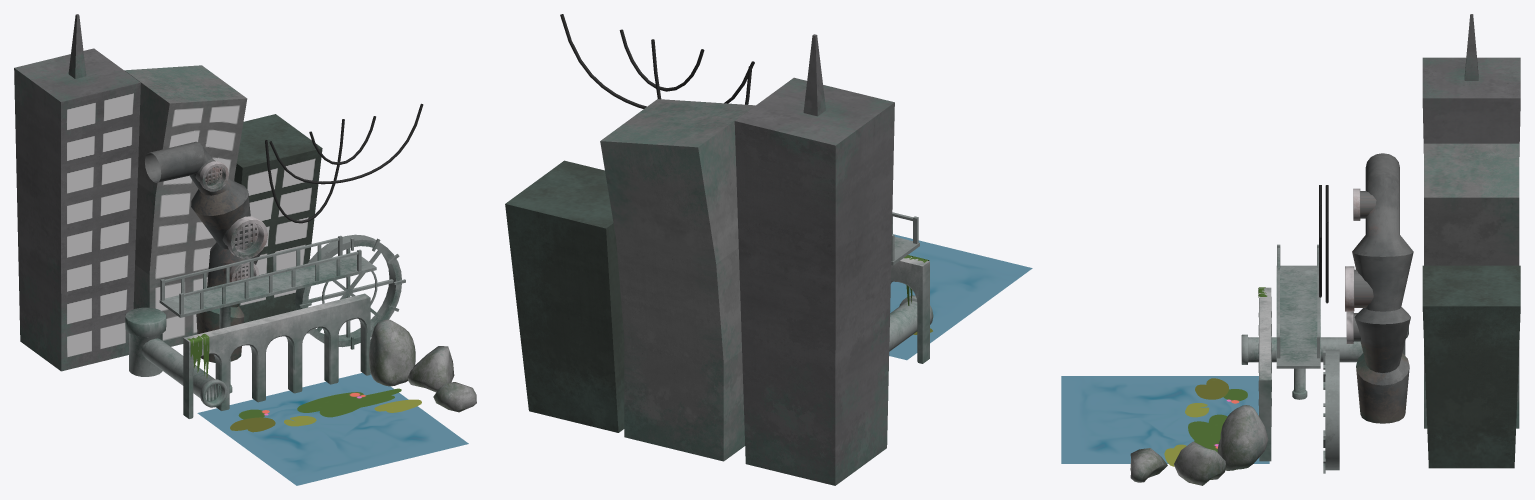
Rendered from Environments 3_1.fbx.
3 views of the same model, side by side, from view 1: azimuth 30°, elevation 25°; view 2: azimuth 150°, elevation 25°; view 3: azimuth 270°, elevation 25° (orthographic). The views are drawn at different scales.
Visible parts, largest first — view 1: Building 1, Building 2, _Floor, Building 3, wall, Water pipe 3, Bridge, Round swing, rock 1, Water pipe 1, Water pipe 2, grass5 (+5 smaller); view 2: Building 1, Building 2, Building 3, _Floor, wall, Water pipe 1, Bridge, wire 3; view 3: Building 3, Water pipe 3, _Floor, Building 2, Building 1, Bridge, rock 1, wall, Round swing, rock 2, Water pipe 1, rock 3 (+2 smaller).
Part boxes in pixels (x1,y1,x2,y2): Building 1: [14, 14, 140, 371]; Building 2: [124, 65, 247, 346]; _Floor: [197, 373, 468, 485]; Building 3: [234, 114, 322, 322]; wall: [183, 293, 370, 418]; Water pipe 3: [145, 141, 267, 362]; Bridge: [159, 235, 376, 317]; Round swing: [295, 234, 405, 349]; rock 1: [369, 319, 415, 386]; Water pipe 1: [141, 338, 227, 407]; Water pipe 2: [125, 307, 166, 376]; grass5: [297, 388, 401, 417]; Building 1: [734, 34, 894, 485]; Building 2: [600, 99, 755, 461]; Building 3: [505, 160, 624, 432]; _Floor: [889, 234, 1032, 360]; wall: [890, 257, 929, 363]; Water pipe 1: [889, 295, 933, 351]; Bridge: [891, 212, 919, 265]; wire 3: [560, 14, 754, 108]; Building 3: [1422, 265, 1520, 468]; Water pipe 3: [1345, 153, 1413, 423]; _Floor: [1061, 376, 1269, 463]; Building 2: [1424, 143, 1519, 428]; Building 1: [1422, 14, 1520, 156]; Bridge: [1276, 244, 1320, 368]; rock 1: [1217, 405, 1268, 470]; wall: [1258, 287, 1271, 461]; Round swing: [1323, 346, 1339, 473]; rock 2: [1174, 441, 1225, 485]; Water pipe 1: [1241, 334, 1363, 364]; rock 3: [1130, 448, 1167, 482].
Bounding box in the file's own units: 363 × 441 × 370.
